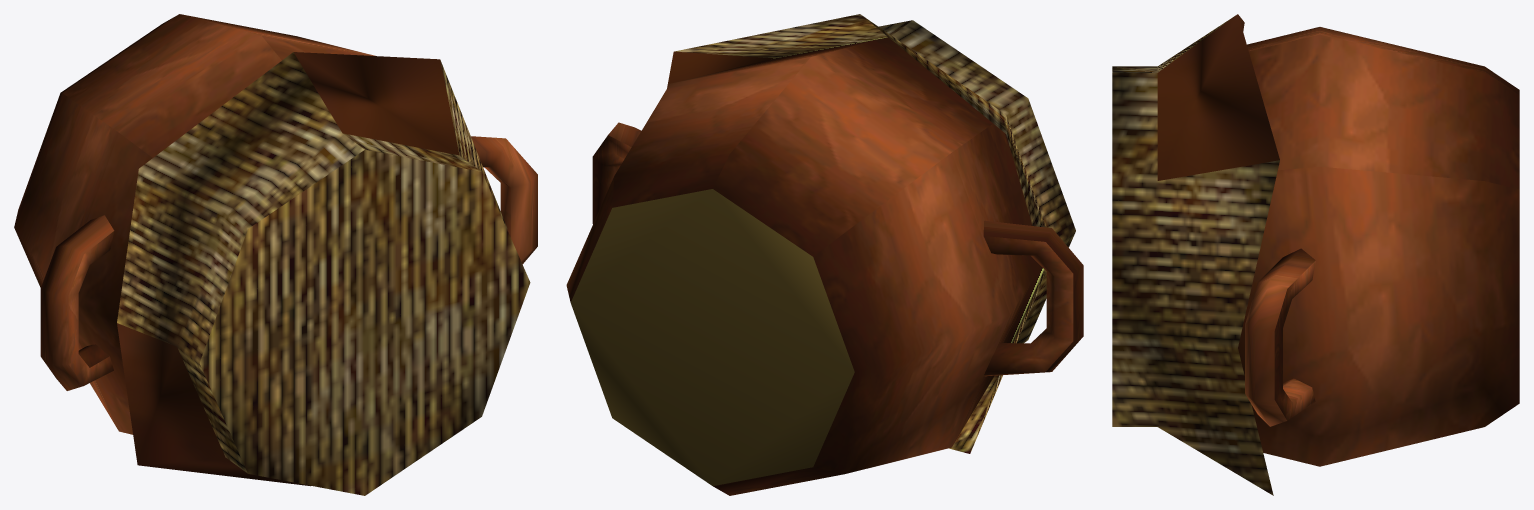
The model's file is ItFo_Honey.fbx.
3 views of the same model, side by side, from view 1: azimuth 30°, elevation 25°; view 2: azimuth 150°, elevation 25°; view 3: azimuth 270°, elevation 25° (orthographic).
Parts seen in each view (by area): view 1: zenGin0; view 2: zenGin0; view 3: zenGin0.
Part boxes in pixels (x1,y1,x2,y2): zenGin0: (14,14,537,495); zenGin0: (566,14,1083,495); zenGin0: (1112,14,1519,495).
Size of the model in its own units: 33.06 by 28.38 by 23.77.
